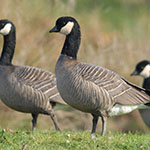geese: (49, 11, 79, 41)
